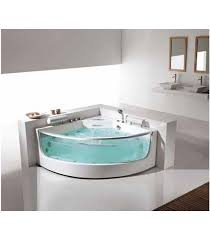bathub: (30, 106, 160, 183)
